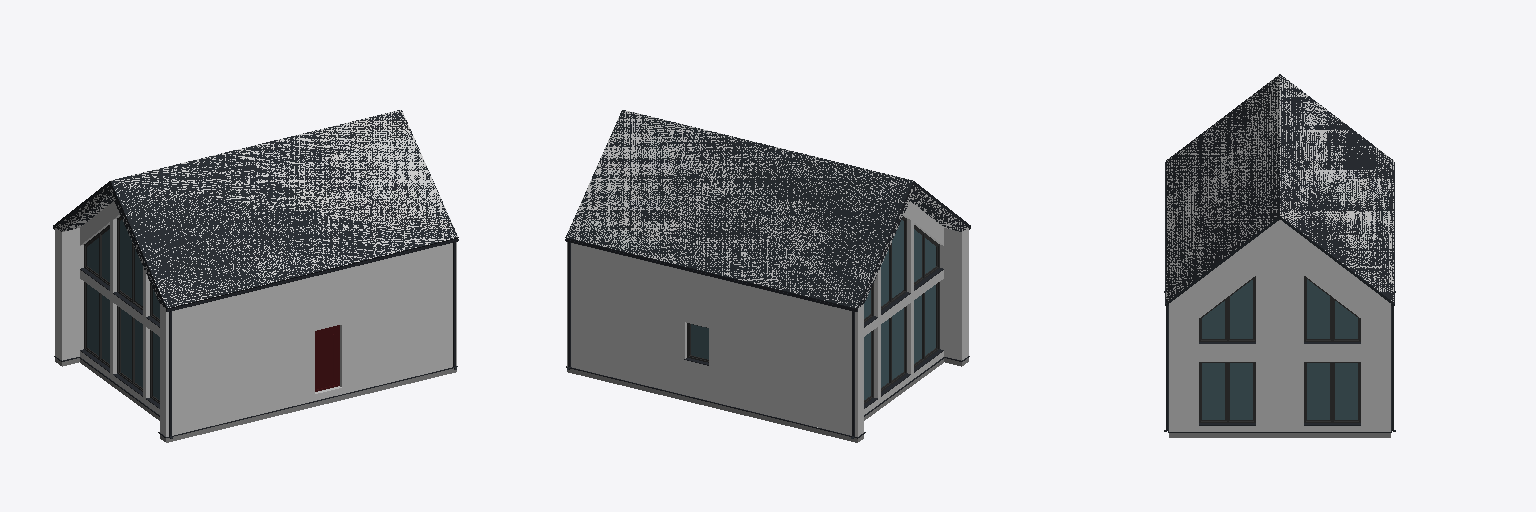
Rendered from dom1.obj.
3 views of the same model, side by side, from view 1: azimuth 30°, elevation 25°; view 2: azimuth 150°, elevation 25°; view 3: azimuth 270°, elevation 25° (orthographic).
Visible parts, largest first — view 1: Root_Node; view 2: Root_Node; view 3: Root_Node.
Part boxes in pixels (x1,y1,x2,y2): Root_Node: (53, 110, 458, 442); Root_Node: (565, 110, 970, 442); Root_Node: (1164, 74, 1395, 437).
Size of the model in its own units: 10.62 by 7.71 by 7.3.